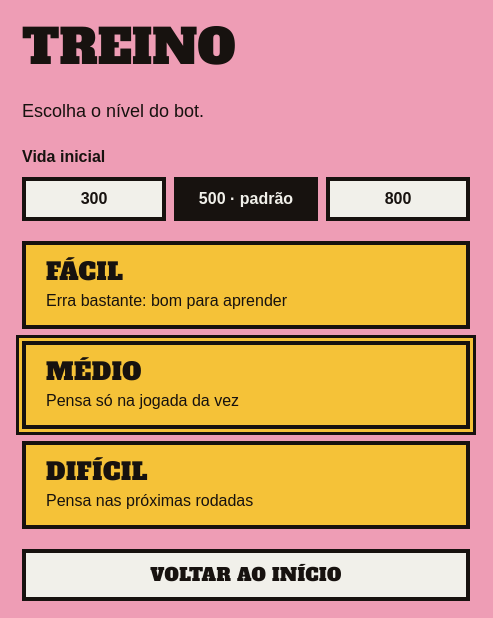
Test case: /treino: a escolha do nível › uma exceção ao criar a sala escolhida cai na tela de falha, sem timer
The image size is (493, 618).
Click the button "Fácil Erra bastante: bom para aprender" at (85, 272), box [22,241,470,329]
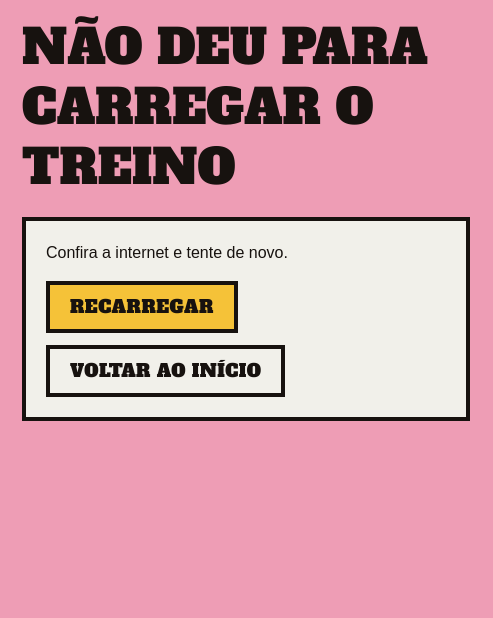
expect the heading "Não deu para carregar o treino" is shown: met, box [22,17,470,197]
